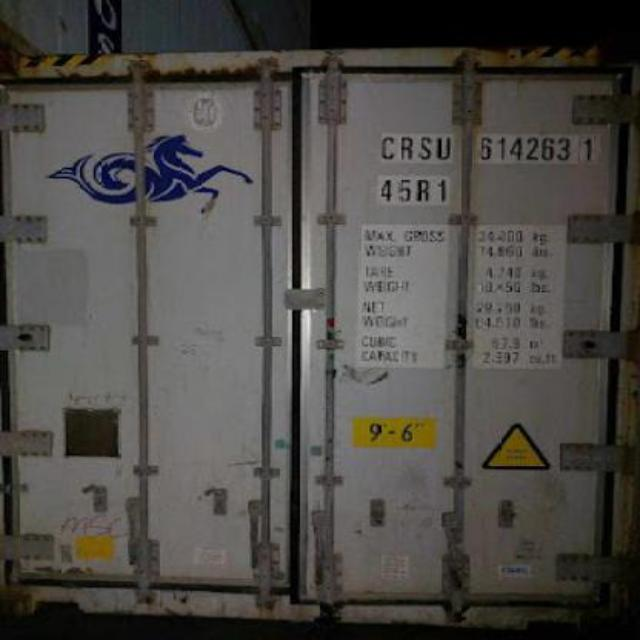1: (580, 131, 604, 171), (492, 132, 506, 164)
2: (526, 130, 540, 162)
3: (554, 128, 570, 168)
4: (508, 130, 524, 160)
6: (538, 128, 556, 162), (478, 132, 492, 162)
C: (382, 130, 400, 162)
R: (400, 132, 416, 164)
S: (416, 133, 434, 163)
U: (436, 132, 454, 164)
